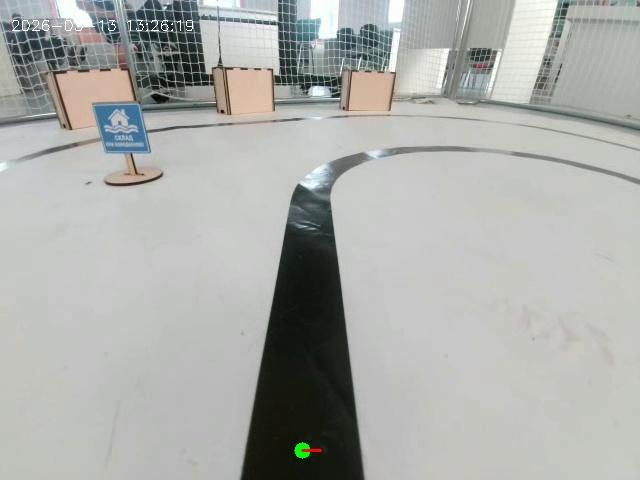flood: (79, 84, 161, 195)
